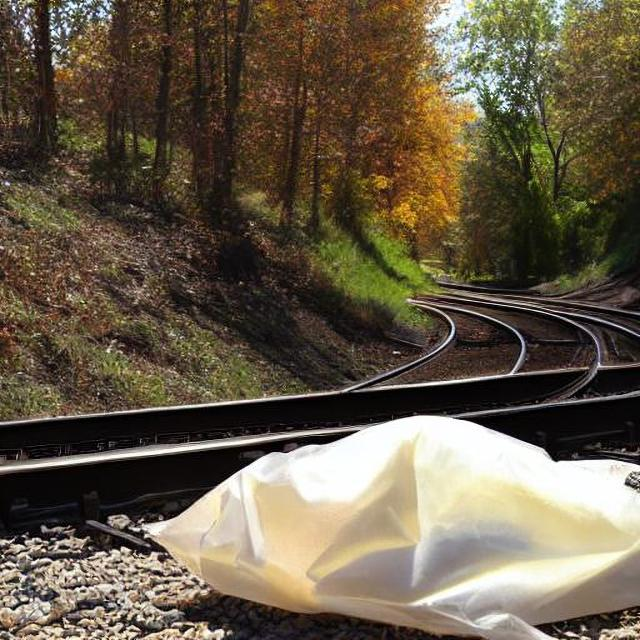plastic bag: (133, 410, 640, 639)
